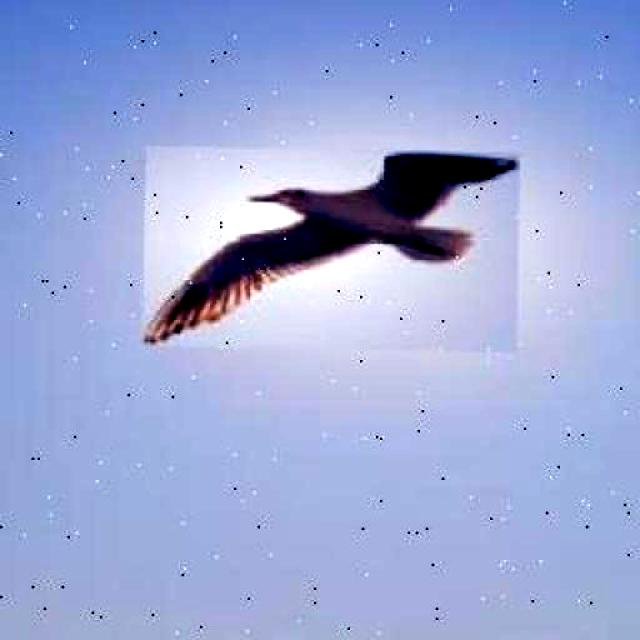airplane: (141, 145, 519, 351)
